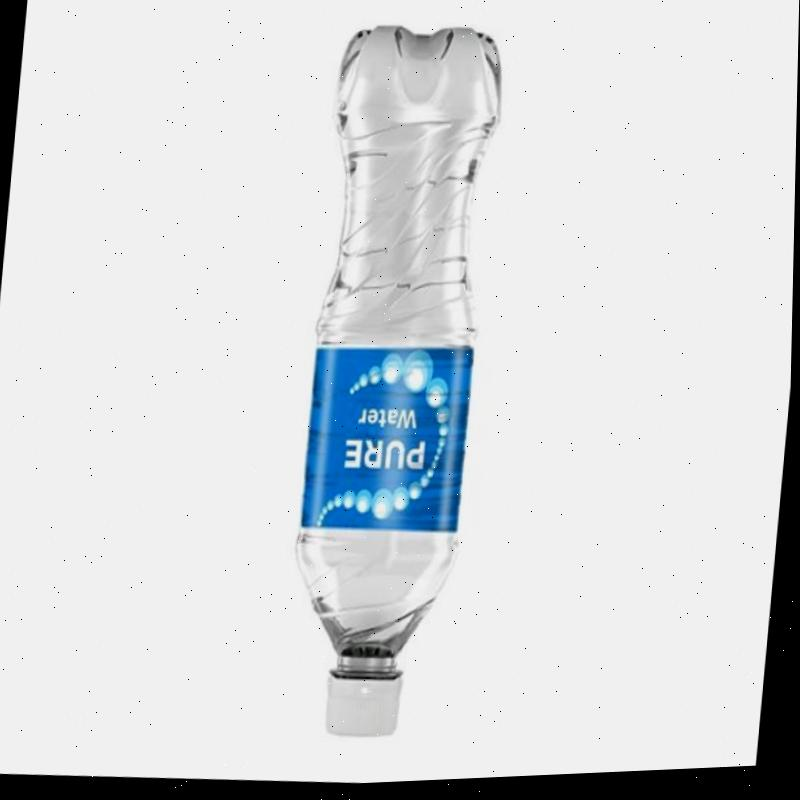botella: (279, 18, 517, 755)
